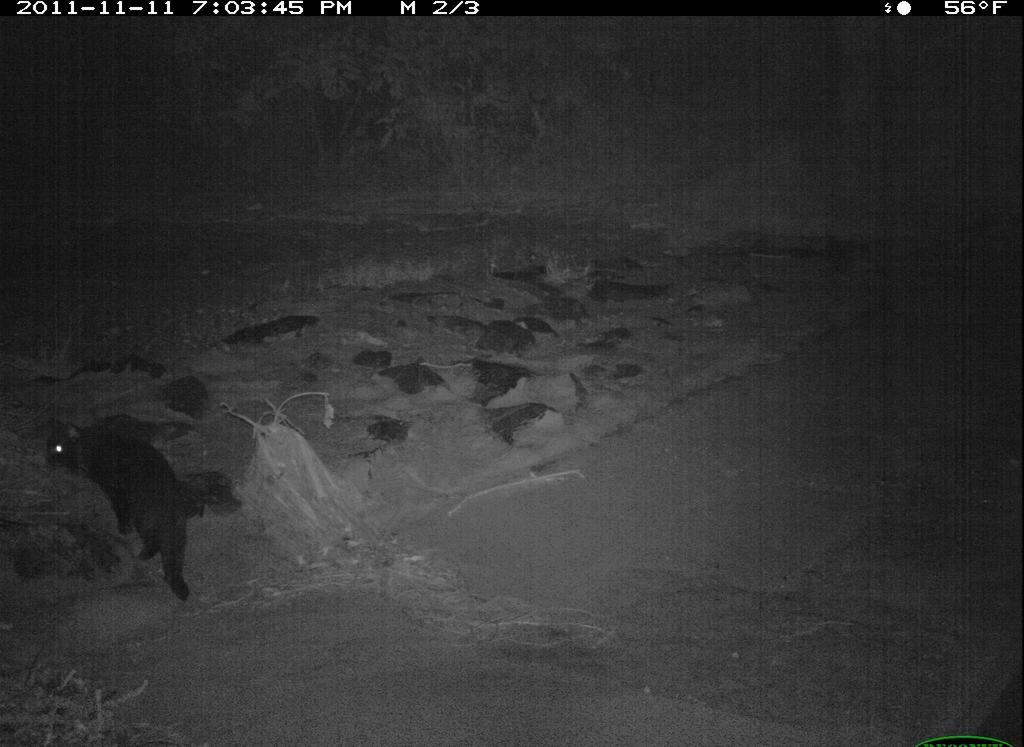cat: (34, 408, 204, 616)
